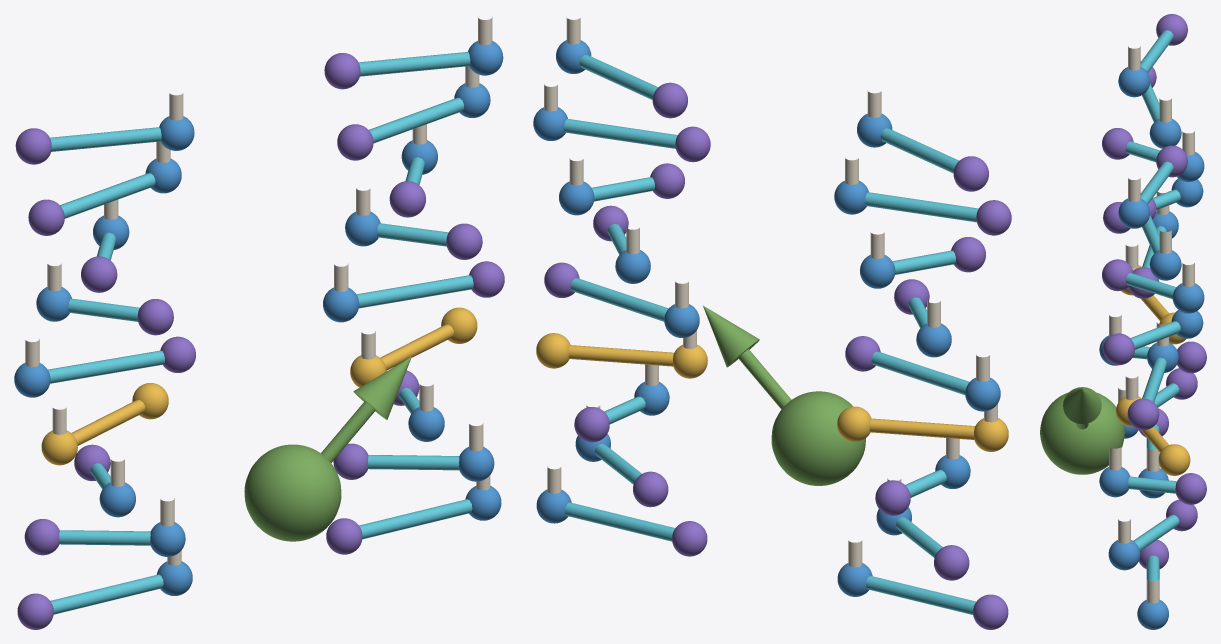
Rendered from bio-genetics-dna-replication.glb.
The picture shows the model from 3 angles, left to right: view 1: azimuth 30°, elevation 25°; view 2: azimuth 150°, elevation 25°; view 3: azimuth 270°, elevation 25°; orthographic projection. The views are drawn at different scales.
Parts seen in each view (by area): view 1: unzipping-enzyme-marker, parent-dna-template-paired-base-rung-4, new-dna-copy-paired-base-rung-4, parent-dna-template-paired-base-rung-0, new-dna-copy-paired-base-rung-0, parent-dna-template-paired-base-rung-8, new-dna-copy-paired-base-rung-8, copy-direction-fork-head, parent-dna-template-paired-base-rung-7, new-dna-copy-paired-base-rung-7, parent-dna-template-paired-base-rung-1, new-dna-copy-paired-base-rung-1 (+40 smaller); view 2: unzipping-enzyme-marker, parent-dna-template-paired-base-rung-7, new-dna-copy-paired-base-rung-7, parent-dna-template-paired-base-rung-0, new-dna-copy-paired-base-rung-0, parent-dna-template-paired-base-rung-3, new-dna-copy-paired-base-rung-3, new-dna-copy-paired-base-rung-4, parent-dna-template-paired-base-rung-4, copy-direction-fork-head, new-dna-copy-paired-base-rung-8, parent-dna-template-paired-base-rung-8 (+39 smaller); view 3: unzipping-enzyme-marker, copy-direction-fork-head, new-dna-copy-base-dot-right-4, new-dna-copy-base-dot-right-3, new-dna-copy-base-dot-right-5, new-dna-copy-base-dot-right-2, parent-dna-template-base-dot-right-2, new-dna-copy-base-dot-left-7, parent-dna-template-base-dot-left-8, new-dna-copy-base-dot-left-8, new-dna-copy-base-dot-left-0, new-dna-copy-base-dot-left-1 (+47 smaller).
Part boxes in pixels (box(x1,y1,x2,y2)): unzipping-enzyme-marker: box(244, 444, 341, 541); parent-dna-template-paired-base-rung-4: box(48, 350, 164, 383); new-dna-copy-paired-base-rung-4: box(356, 275, 473, 308); parent-dna-template-paired-base-rung-0: box(50, 574, 163, 614); new-dna-copy-paired-base-rung-0: box(359, 499, 472, 539); parent-dna-template-paired-base-rung-8: box(50, 127, 161, 151); new-dna-copy-paired-base-rung-8: box(358, 52, 470, 76); copy-direction-fork-head: box(353, 356, 411, 419); parent-dna-template-paired-base-rung-7: box(60, 173, 155, 218); new-dna-copy-paired-base-rung-7: box(369, 98, 464, 143); parent-dna-template-paired-base-rung-1: box(59, 530, 150, 545); new-dna-copy-paired-base-rung-1: box(368, 455, 459, 470); unzipping-enzyme-marker: box(771, 391, 865, 485); parent-dna-template-paired-base-rung-7: box(865, 192, 978, 222); new-dna-copy-paired-base-rung-7: box(564, 119, 677, 148); parent-dna-template-paired-base-rung-0: box(866, 575, 975, 614); new-dna-copy-paired-base-rung-0: box(565, 502, 675, 541); parent-dna-template-paired-base-rung-3: box(869, 418, 975, 439); new-dna-copy-paired-base-rung-3: box(568, 345, 673, 366); new-dna-copy-paired-base-rung-4: box(570, 278, 668, 321); parent-dna-template-paired-base-rung-4: box(871, 351, 969, 394); copy-direction-fork-head: box(703, 305, 759, 367); new-dna-copy-paired-base-rung-8: box(579, 55, 658, 99); parent-dna-template-paired-base-rung-8: box(880, 128, 958, 173); unzipping-enzyme-marker: box(1040, 392, 1124, 474); copy-direction-fork-head: box(1063, 387, 1101, 424); new-dna-copy-base-dot-right-4: box(1127, 398, 1159, 430); new-dna-copy-base-dot-right-3: box(1158, 444, 1190, 475); new-dna-copy-base-dot-right-5: box(1103, 333, 1134, 365); new-dna-copy-base-dot-right-2: box(1175, 473, 1206, 504); parent-dna-template-base-dot-right-2: box(1177, 341, 1206, 373); new-dna-copy-base-dot-left-7: box(1149, 250, 1181, 280); parent-dna-template-base-dot-left-8: box(1118, 67, 1150, 97); new-dna-copy-base-dot-left-8: box(1118, 198, 1150, 228); new-dna-copy-base-dot-left-0: box(1137, 600, 1168, 629); new-dna-copy-base-dot-left-1: box(1108, 540, 1140, 570).
Size of what is drawn, in the model's own units: 1.37 by 1.4 by 0.4721.
